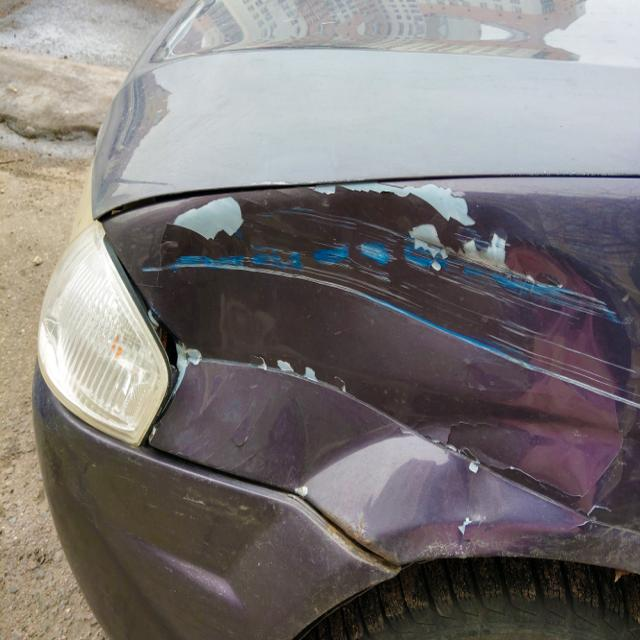Cabossage: (314, 381, 638, 549)
Rayure: (166, 179, 640, 417), (171, 327, 640, 536)
